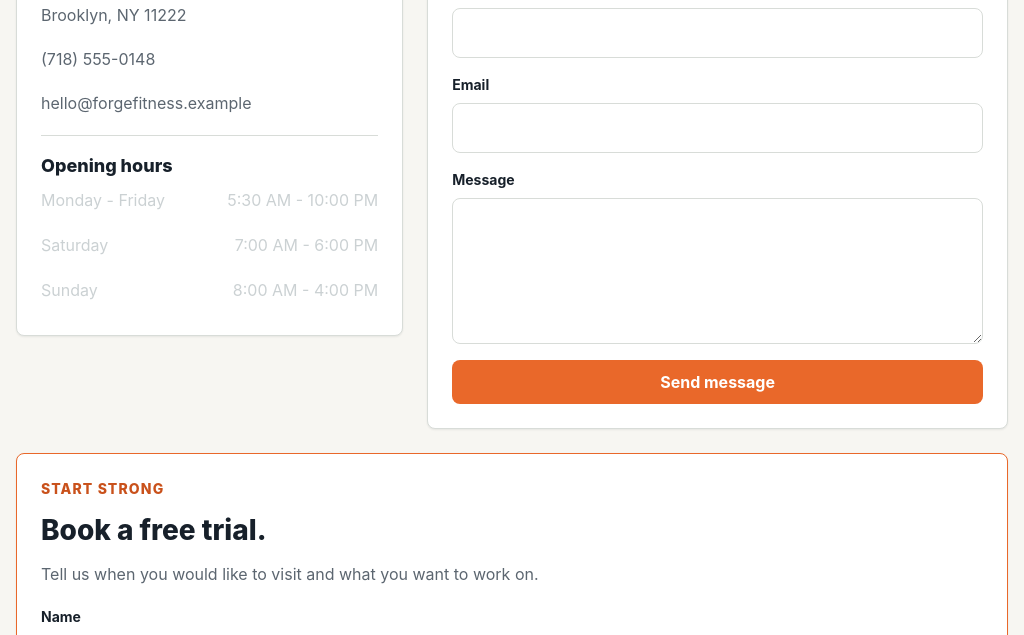
Test: App › validates and submits the contact form with a mock success state
The width and height of the screenshot is (1024, 635).
(page scrolled)
Click the button "Send message": (718, 382) [452,360,983,404]
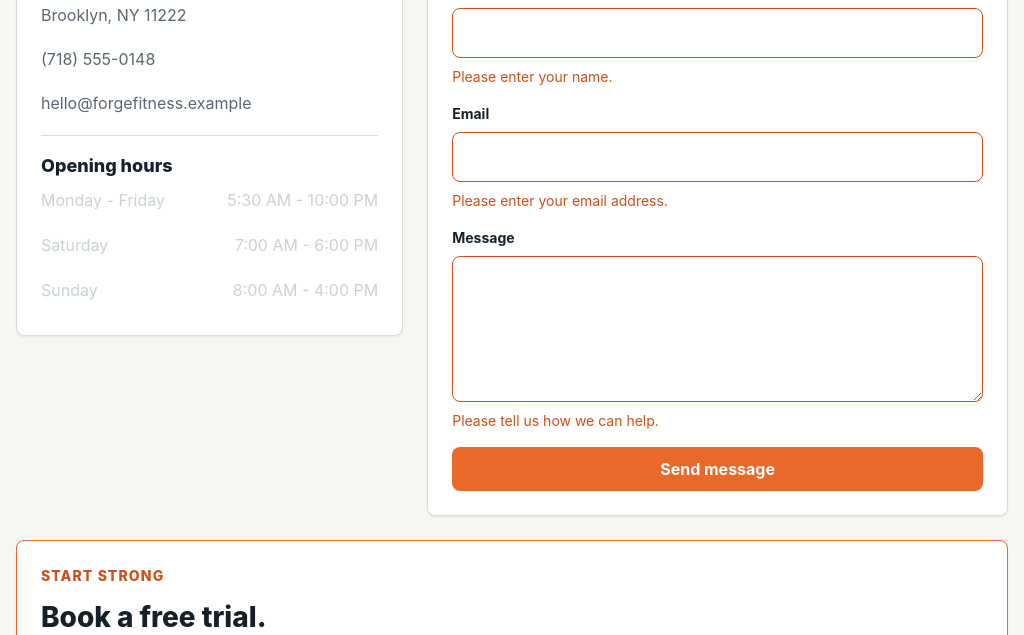
Result: the text "Please enter your name." is shown at [452,68,612,85]
Result: the text "Please enter your email address." is shown at [452,192,668,209]
Result: the text "Please tell us how we can help." is shown at [452,412,659,429]
In the field labelled "Name" below "Send us a message.": (718, 33) [452,8,983,58], type "Casey Chen"
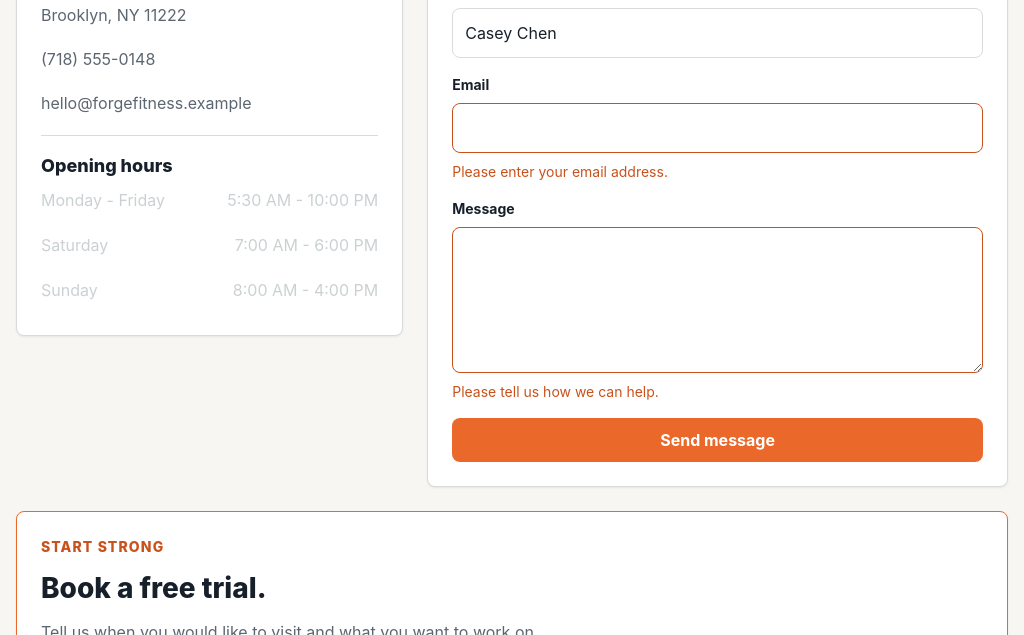
In the field labelled "Email": (718, 128) [452,103,983,153], type "casey@example.com"
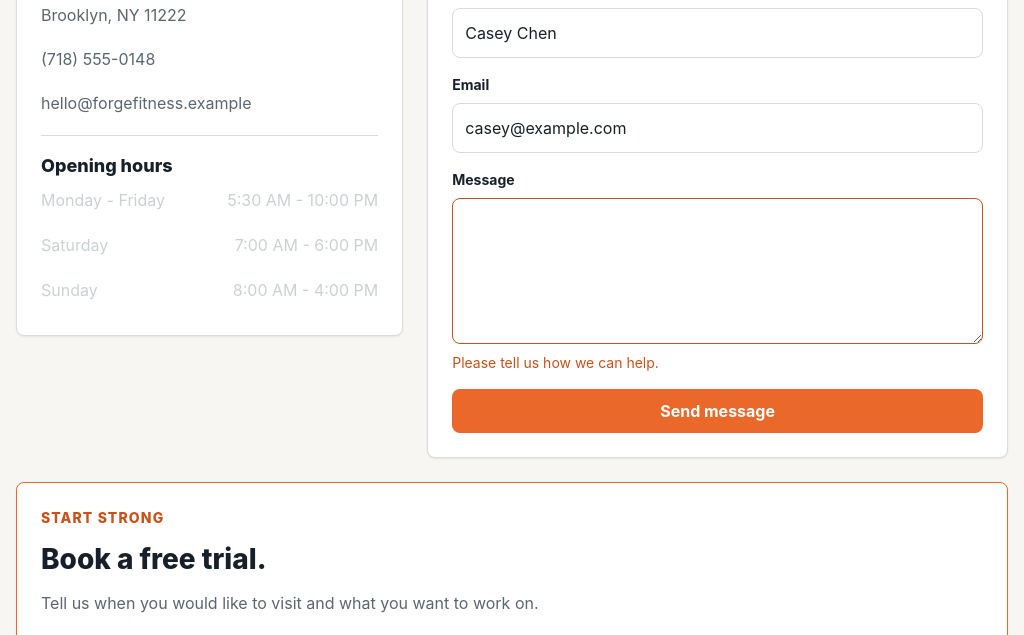
In the text box labelled "Message": (718, 271) [452,198,983,344], type "I have a question about memberships."
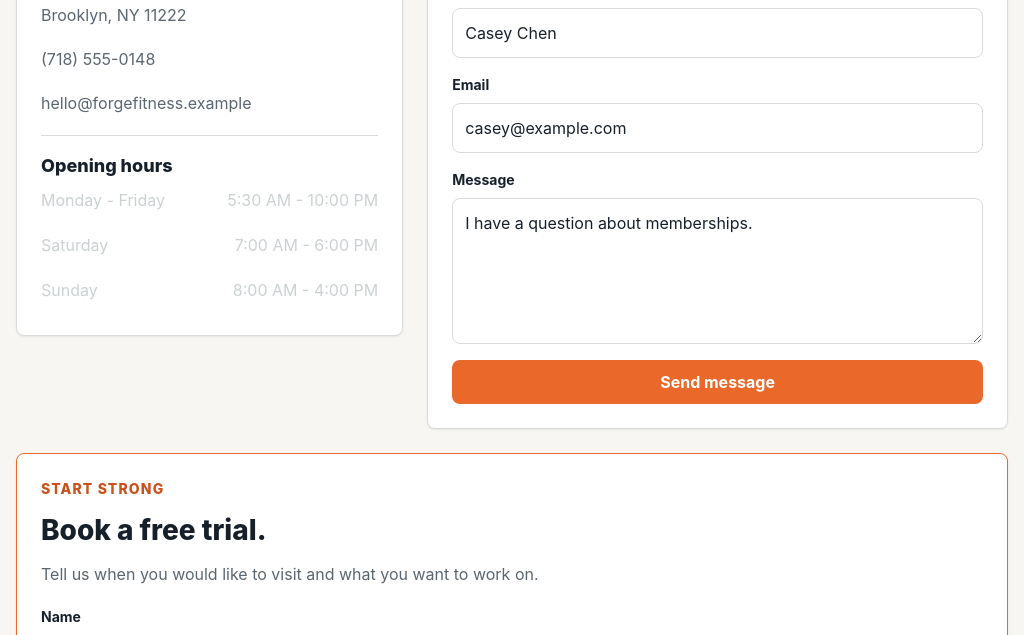
Click the button "Send message": (718, 382) [452,360,983,404]
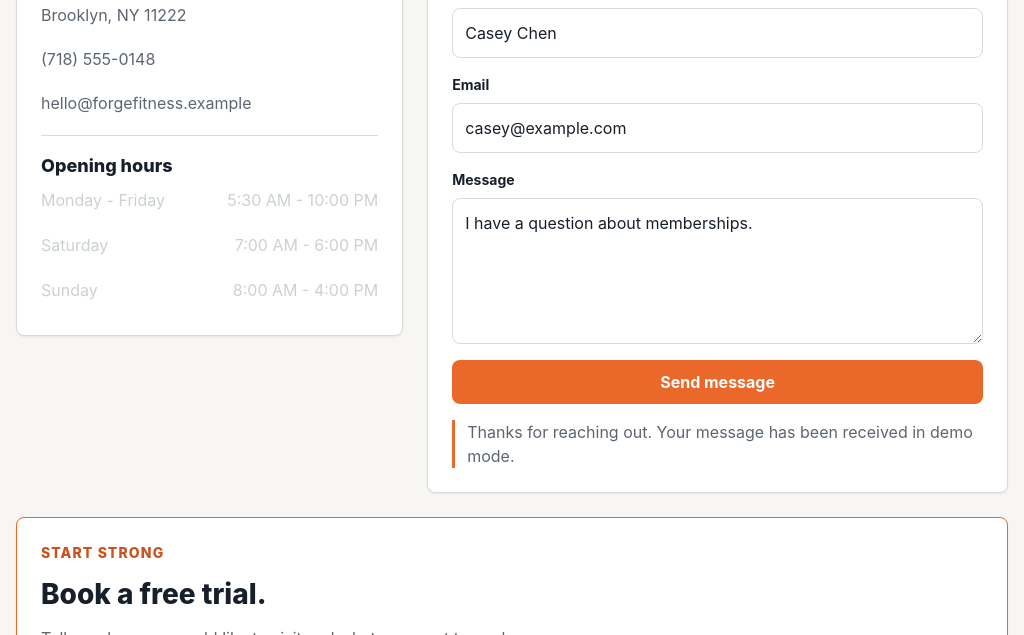
Result: the message shows "message has been received in demo mode" at [467,422,973,466]
